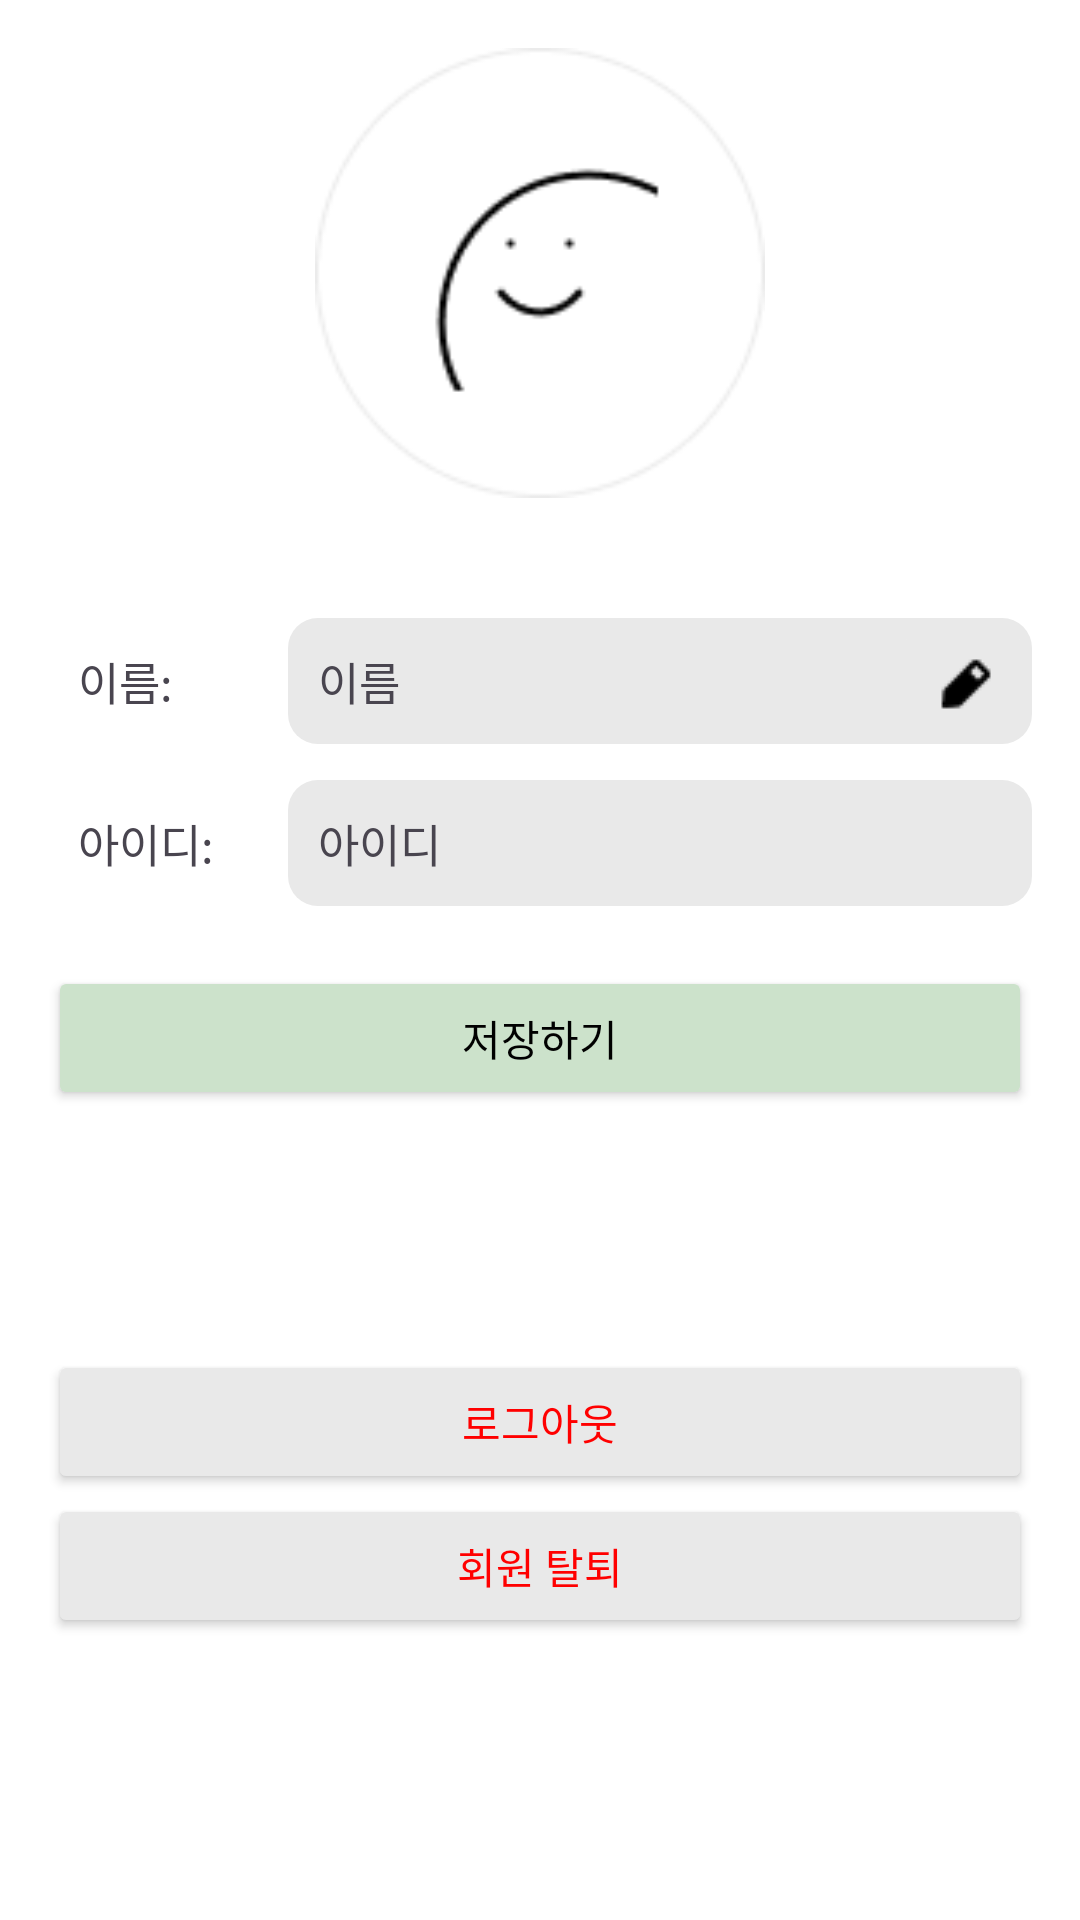

Screen size 1080×1920. Icon name, then its box in pixels as (x1, y1, x2, y2):
edit: (941, 659, 991, 709)
profile: (435, 168, 659, 392)
